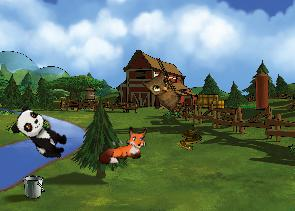fox: (95, 124, 151, 166)
owl: (139, 66, 193, 115)
panda: (7, 103, 74, 164)
